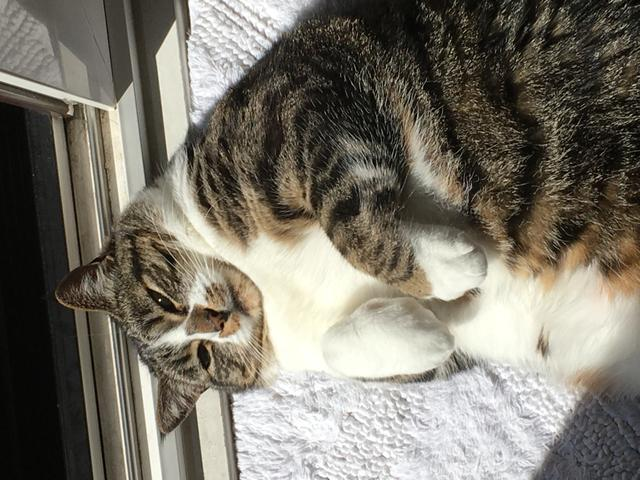playdoh: (57, 1, 640, 438)
